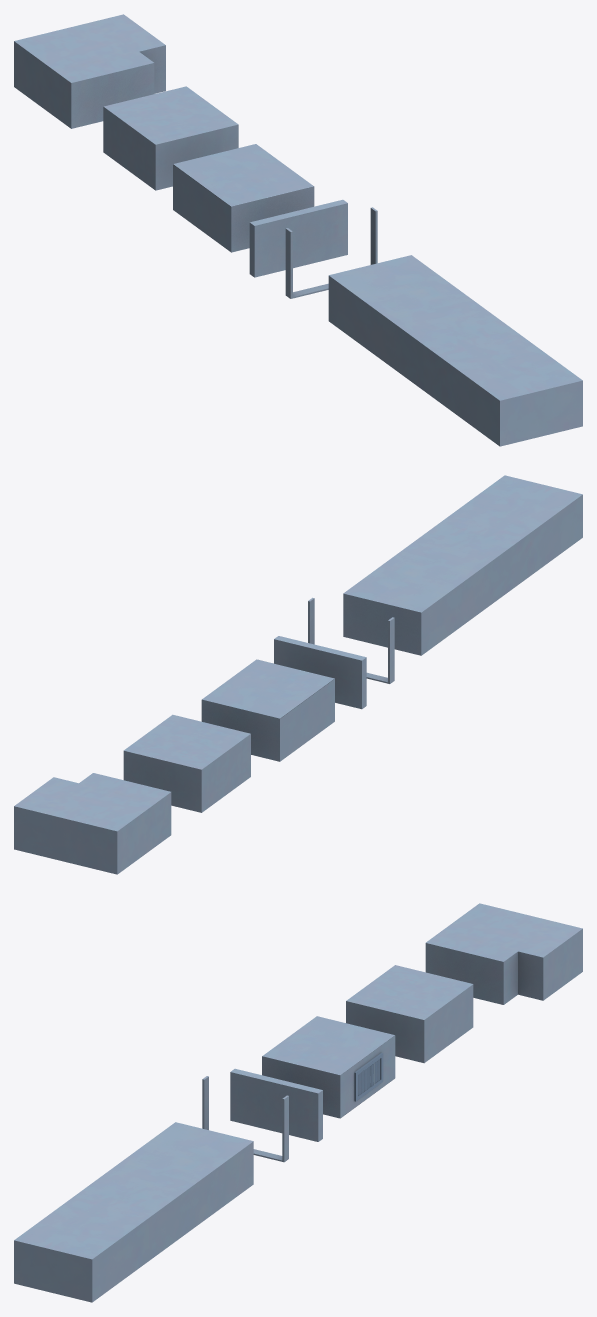
The model's file is VENTILACIÓunity.fbx.
3 renders of one model, top to bottom at view 1: azimuth 30°, elevation 25°; view 2: azimuth 150°, elevation 25°; view 3: azimuth 330°, elevation 25°, orthographic. The views are drawn at different scales.
Visible parts, largest first — view 1: Cube, Cube.020, Cube.001, Cube.017, Cube.018, Cube.019; view 2: Cube, Cube.020, Cube.001, Cube.017, Cube.018, Cube.019; view 3: Cube, Cube.020, Cube.001, Cube.017, Cube.018, Cube.019.
Part boxes in pixels (x1,y1,x2,y2): Cube: [328, 255, 582, 446]; Cube.020: [14, 14, 165, 128]; Cube.001: [173, 144, 314, 252]; Cube.017: [103, 86, 238, 190]; Cube.018: [249, 199, 347, 277]; Cube.019: [285, 207, 377, 298]; Cube: [343, 475, 582, 655]; Cube.020: [14, 773, 171, 874]; Cube.001: [201, 659, 334, 761]; Cube.017: [123, 714, 250, 812]; Cube.018: [274, 636, 366, 709]; Cube.019: [308, 597, 394, 683]; Cube: [14, 1122, 253, 1302]; Cube.020: [425, 903, 582, 1004]; Cube.001: [262, 1016, 395, 1118]; Cube.017: [346, 965, 473, 1063]; Cube.018: [230, 1068, 322, 1141]; Cube.019: [202, 1076, 288, 1162].
Bounding box in the file's own units: 108 × 58.34 × 753.
